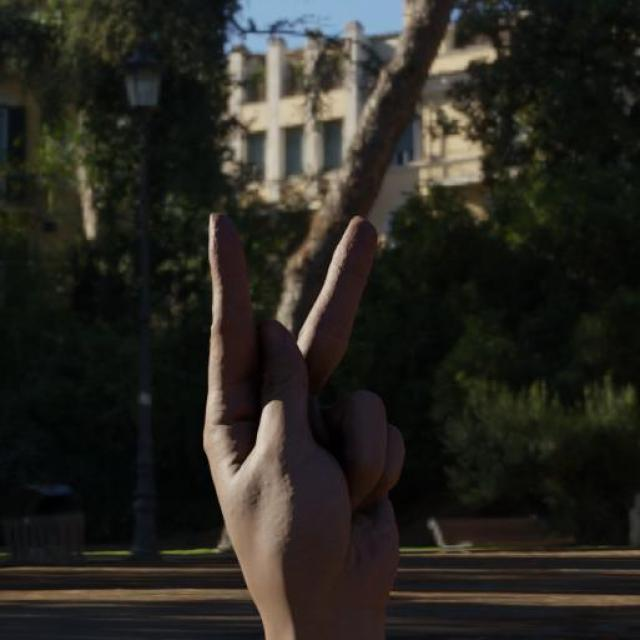K: (136, 157, 467, 640)
